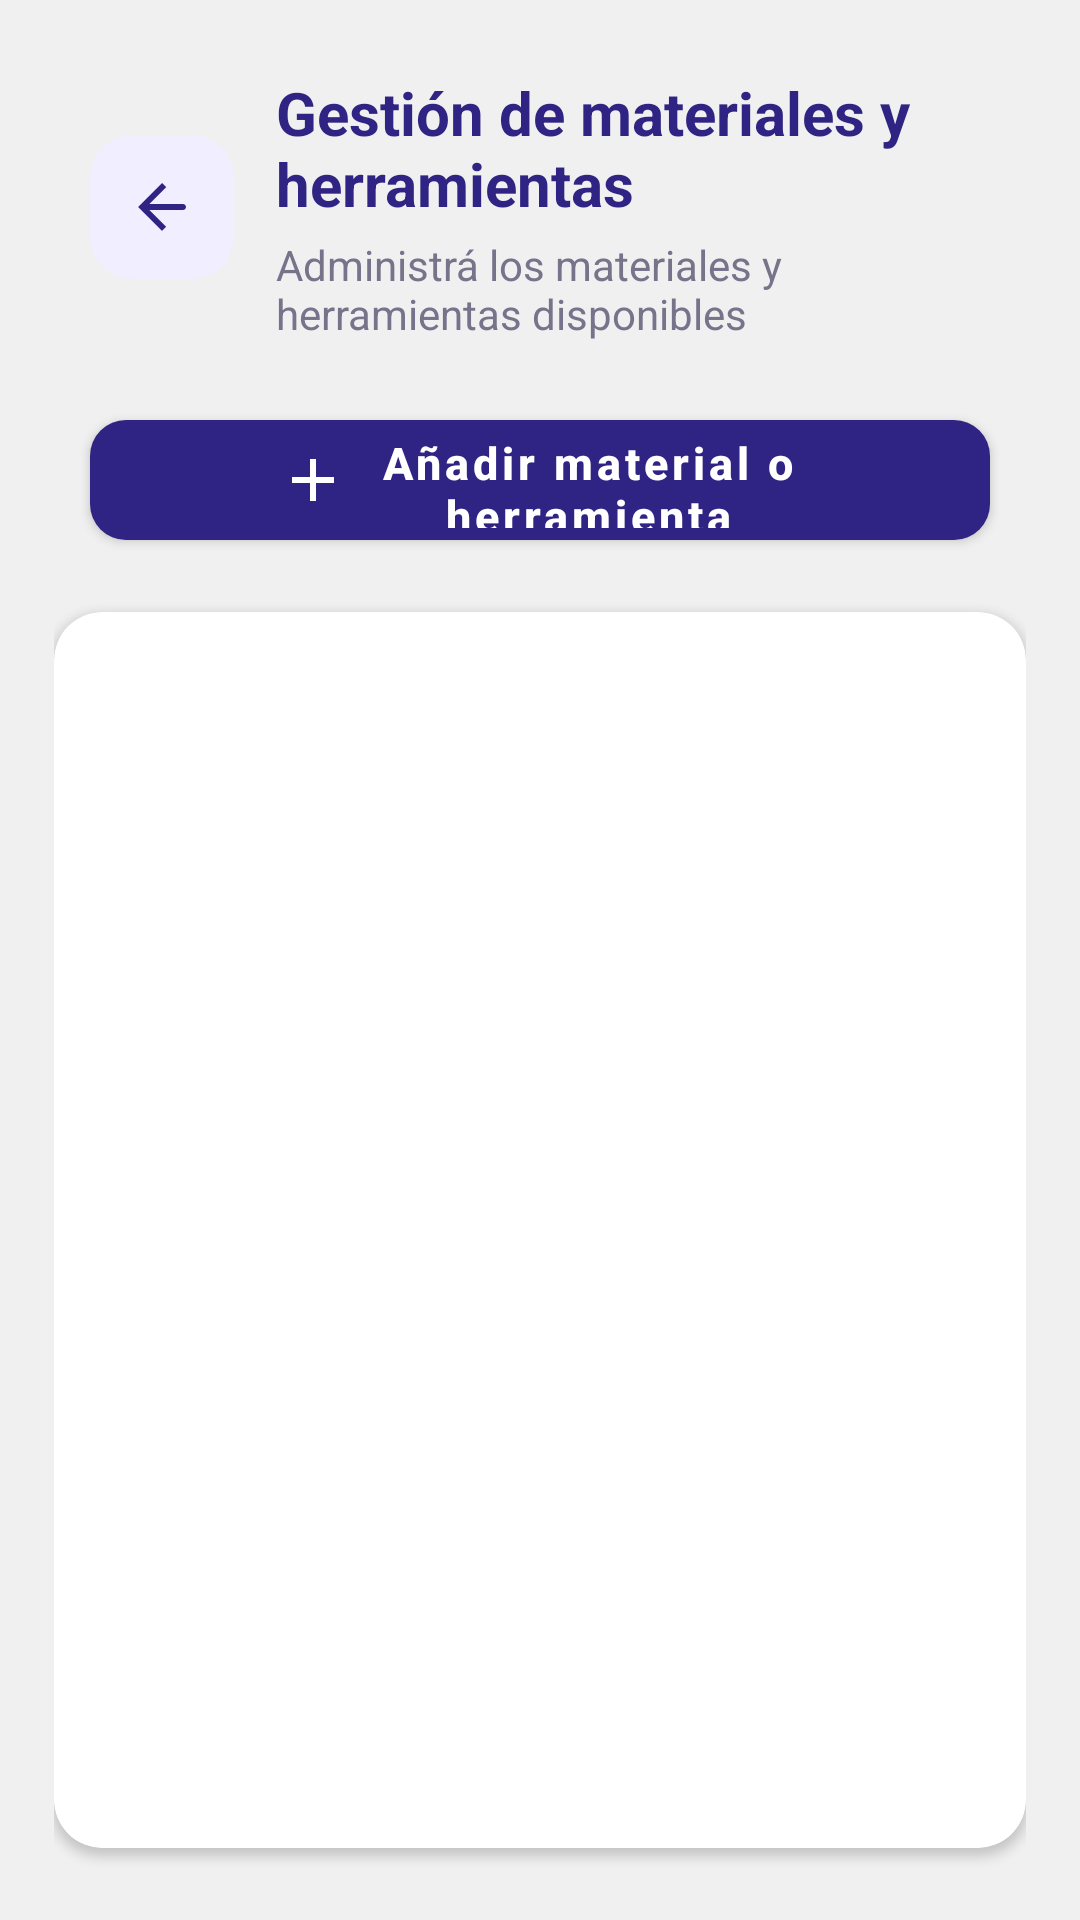

Icon bounding boxes for this 1080px x 1920px phone screenshot, format (x1, y1, x2, y2):
Volver atrás: (90, 135, 234, 279)
